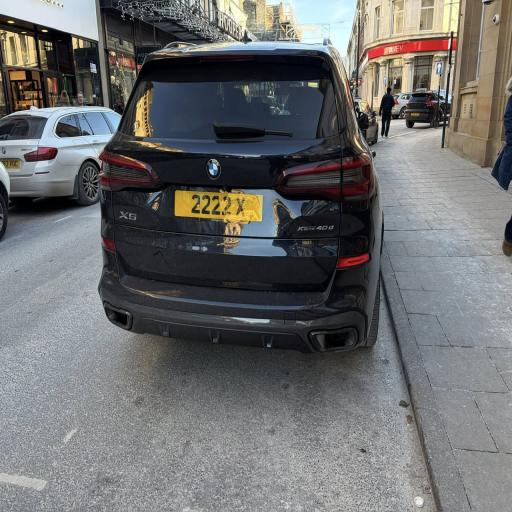numberplates: (175, 191, 262, 221), (0, 159, 19, 169), (410, 113, 420, 116)
